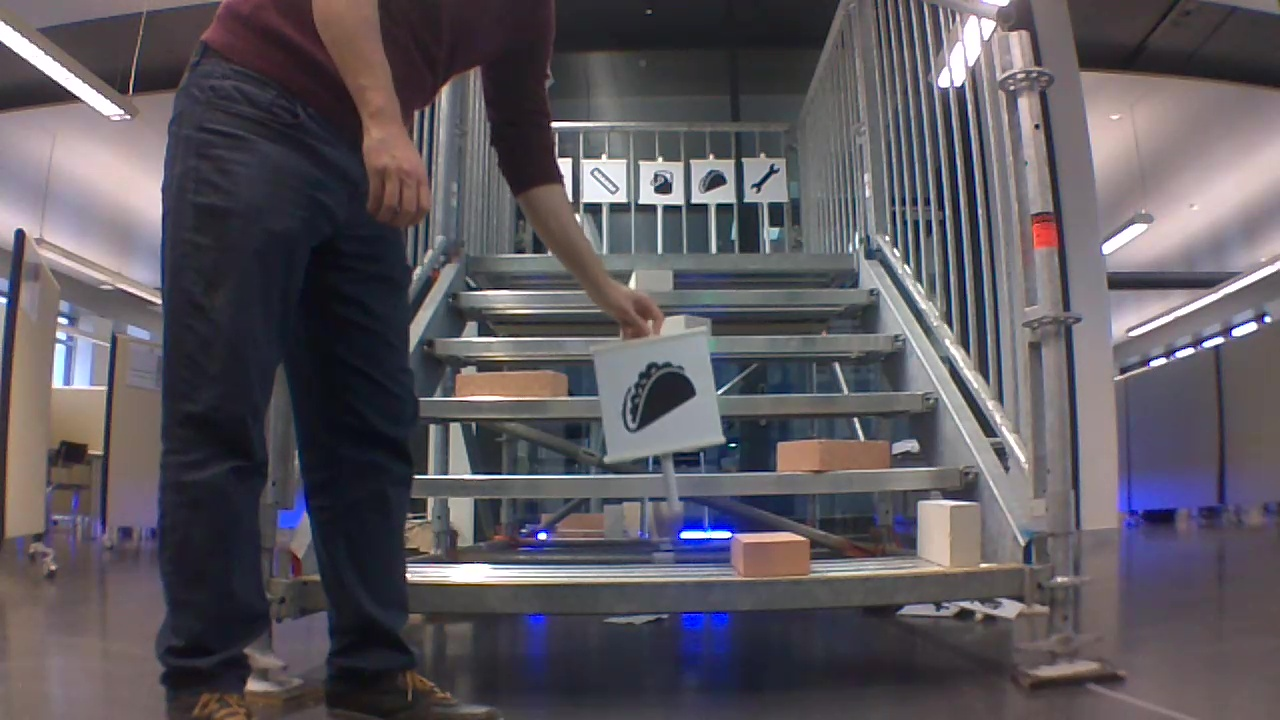brick: (916, 501, 980, 568), (776, 438, 889, 471), (453, 369, 566, 399), (732, 532, 808, 576), (629, 270, 670, 289)
bucket: (646, 167, 677, 198)
edge: (407, 566, 1020, 612), (416, 468, 975, 497)
ruler: (586, 163, 622, 197)
taco: (618, 355, 700, 437), (696, 167, 728, 195)
wrench: (747, 161, 784, 197)
